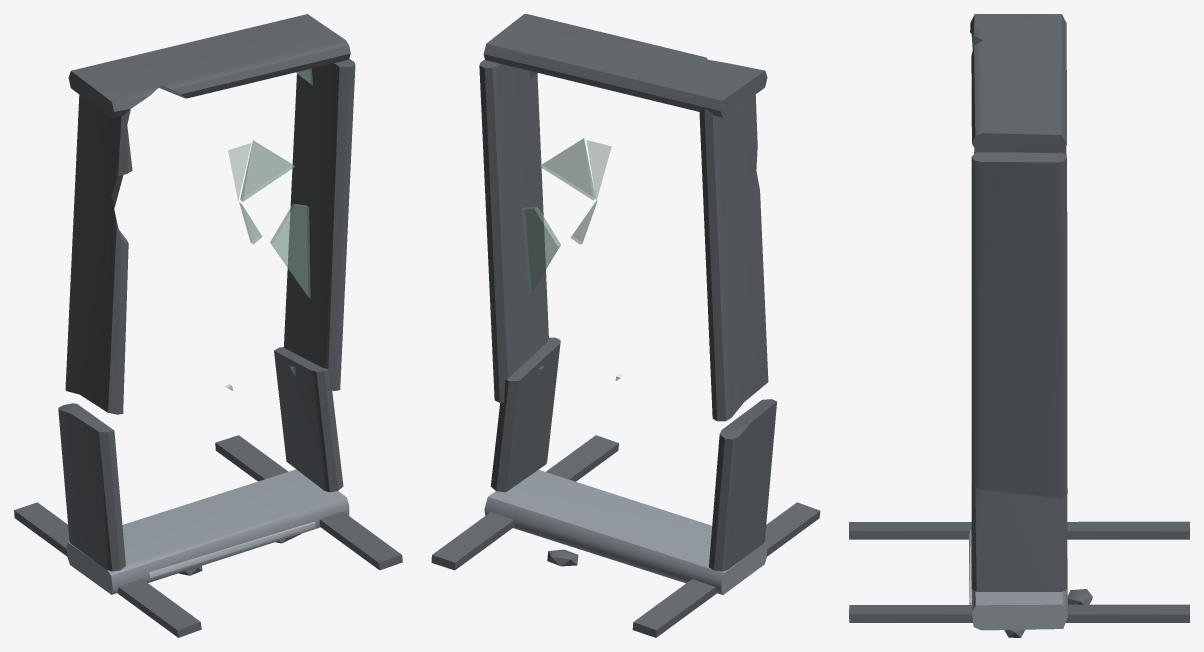
Rendered from vta_deb_cleanroom_panel_b.glb.
3 views of the same model, side by side, from view 1: azimuth 30°, elevation 25°; view 2: azimuth 150°, elevation 25°; view 3: azimuth 270°, elevation 25° (orthographic). The views are drawn at different scales.
Visible parts, largest first — view 1: husk, frag_01, frag_03, frag_02; view 2: husk, frag_01, frag_03, frag_02; view 3: frag_01, husk, frag_03.
Part boxes in pixels (left/top/right/bottom): husk: left=14, top=347, right=402, bottom=637; frag_01: left=65, top=58, right=355, bottom=414; frag_03: left=68, top=14, right=350, bottom=118; frag_02: left=228, top=140, right=294, bottom=201; husk: left=431, top=337, right=820, bottom=637; frag_01: left=479, top=59, right=768, bottom=421; frag_03: left=483, top=14, right=767, bottom=117; frag_02: left=539, top=138, right=611, bottom=200; frag_01: left=971, top=34, right=1067, bottom=498; husk: left=849, top=483, right=1189, bottom=637; frag_03: left=970, top=14, right=1066, bottom=153.
Bounding box in the file's own units: 0.6549 × 1.2 × 0.7167.
